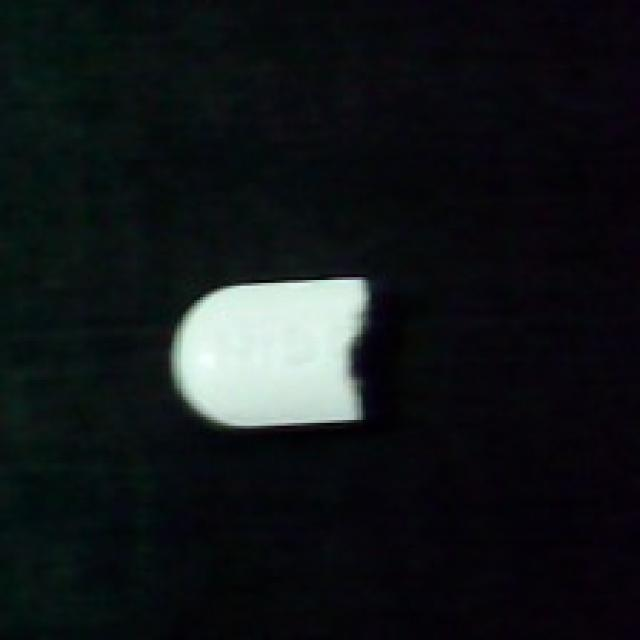defected: (163, 266, 371, 434)
